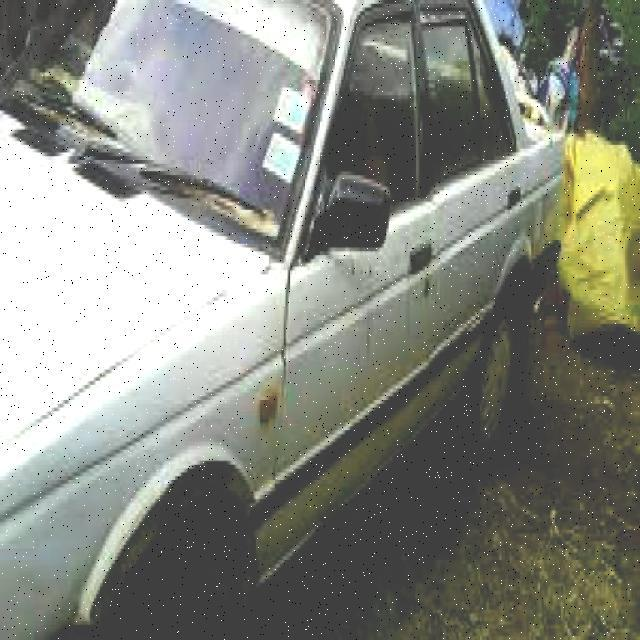car damage: (349, 252, 425, 375)
